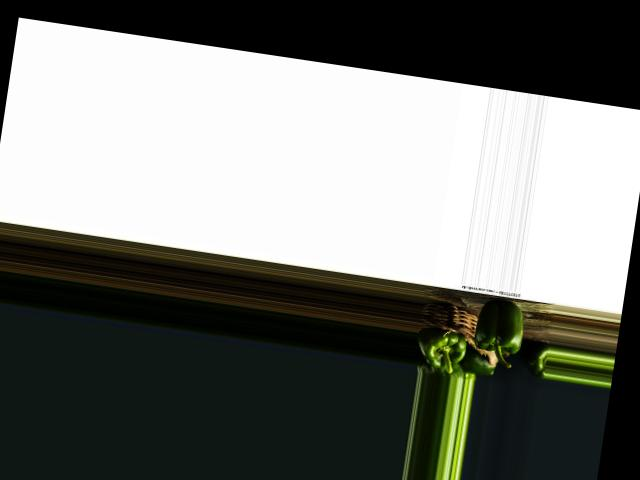bell_pepper: (526, 346, 549, 378)
